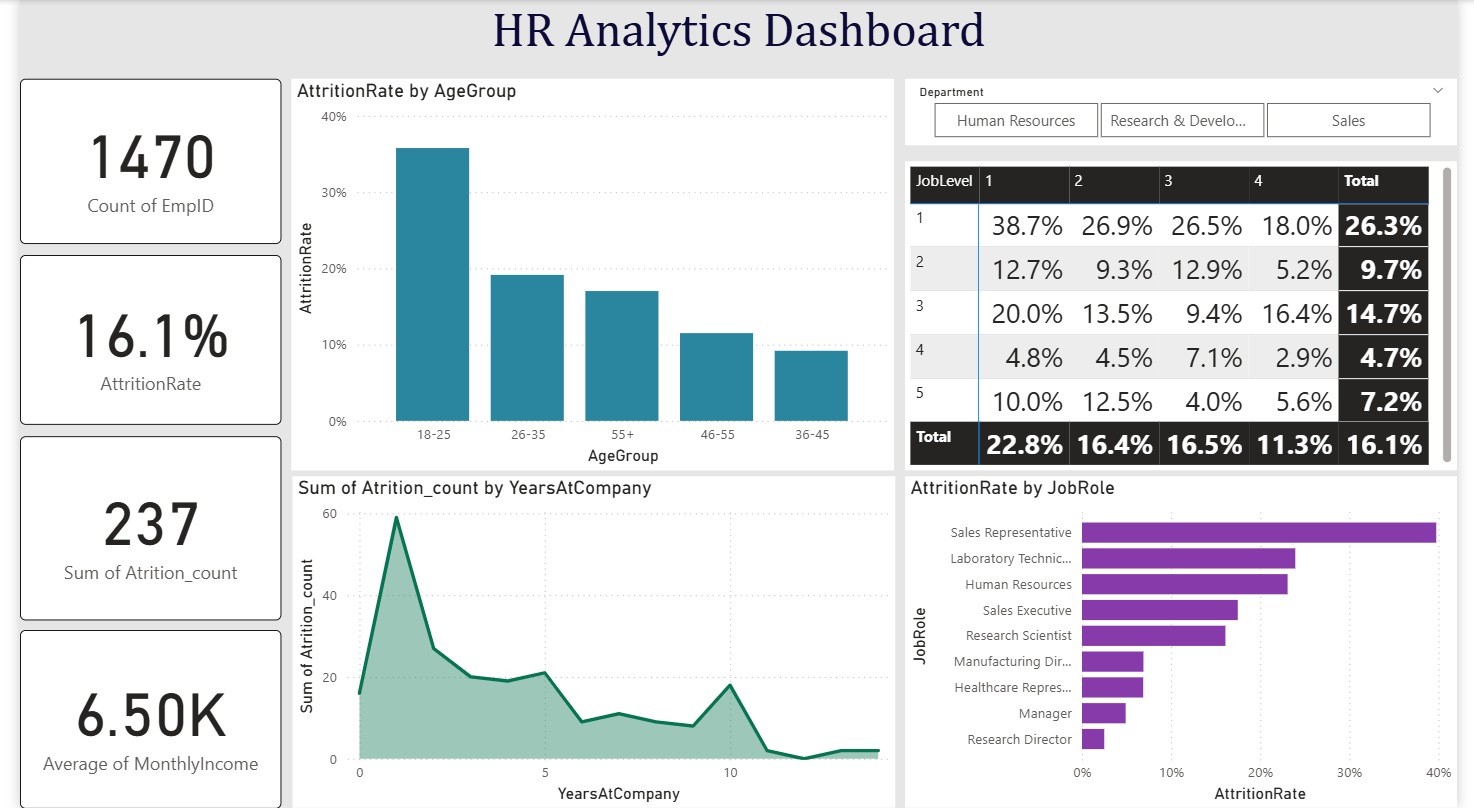

This screenshot's page, from the dashboard's own definition file:
{"tool":"powerbi","page":{"name":"Page 1","canvas":[1280,720],"ordinal":0},"visuals":[{"type":"card","title":"Count of Employees","fields":{"Values":["CountNonNull(HR_Analytics.EmpID)"]},"box":[20.5,78.3,179.7,89.8],"z":0},{"type":"card","title":"Count of attrition","fields":{"Values":["Sum(HR_Analytics.Attrition_Count)"]},"box":[227.2,77,179.7,89.8],"z":1000},{"type":"card","title":"Attrition rate","fields":{"Values":["HR_Analytics.Attrition_rate"]},"box":[430,75.7,179.7,91.1],"z":2000},{"type":"card","title":"Average Salary","fields":{"Values":["Avg(HR_Analytics.MonthlyIncome)"]},"box":[628.9,77,179.7,91.1],"z":3000},{"type":"pivotTable","title":"Job level and job satisfaction wise attrition","fields":{"Rows":["HR_Analytics.JobLevel"],"Columns":["HR_Analytics.JobSatisfaction"],"Values":["HR_Analytics.Attrition_rate"]},"box":[417.1,181,403,279.8],"z":4000},{"type":"columnChart","title":"Attrition Rate by Age Group","fields":{"Category":["HR_Analytics.AgeGroup"],"Y":["HR_Analytics.Attrition_rate"]},"box":[20.5,181,377.3,273.4],"z":5000},{"type":"stackedAreaChart","title":"Attrition Count by Years at the Company","fields":{"Category":["HR_Analytics.YearsAtCompany"],"Y":["Sum(HR_Analytics.Attrition_Count)"]},"box":[20.5,472.3,799.6,238.7],"z":6000},{"type":"columnChart","title":"Attrition rate by SalarySlab","fields":{"Y":["HR_Analytics.Attrition_rate"],"Category":["HR_Analytics.SalarySlab"]},"box":[836.8,181,432.5,279.8],"z":7000},{"type":"barChart","title":"Attrition rate by Job Role","fields":{"Y":["HR_Analytics.Attrition_rate"],"Category":["HR_Analytics.JobRole"]},"box":[836.8,467.2,428.7,247.7],"z":8000},{"type":"slicer","fields":{"Values":["HR_Analytics.Department"]},"box":[837,75.8,432.8,92.3],"z":9000},{"type":"textbox","box":[398.7,7.7,486.6,56],"z":10000}]}

Visuals, with their boxes in screenshot pixels (x1, y1, x2, y2), scaled from the page's 1280x720 canvas onto the 1474x808 screenshot:
"Count of Employees" card: pyautogui.locateOnScreen(24, 88, 231, 189)
"Count of attrition" card: pyautogui.locateOnScreen(262, 86, 469, 187)
"Attrition rate" card: pyautogui.locateOnScreen(495, 85, 702, 187)
"Average Salary" card: pyautogui.locateOnScreen(724, 86, 931, 189)
"Job level and job satisfaction wise attrition" pivotTable: pyautogui.locateOnScreen(480, 203, 944, 517)
"Attrition Rate by Age Group" columnChart: pyautogui.locateOnScreen(24, 203, 458, 510)
"Attrition Count by Years at the Company" stackedAreaChart: pyautogui.locateOnScreen(24, 530, 944, 798)
"Attrition rate by SalarySlab" columnChart: pyautogui.locateOnScreen(964, 203, 1462, 517)
"Attrition rate by Job Role" barChart: pyautogui.locateOnScreen(964, 524, 1457, 802)
slicer - HR_Analytics.Department: pyautogui.locateOnScreen(964, 85, 1462, 189)
textbox: pyautogui.locateOnScreen(459, 9, 1019, 71)
